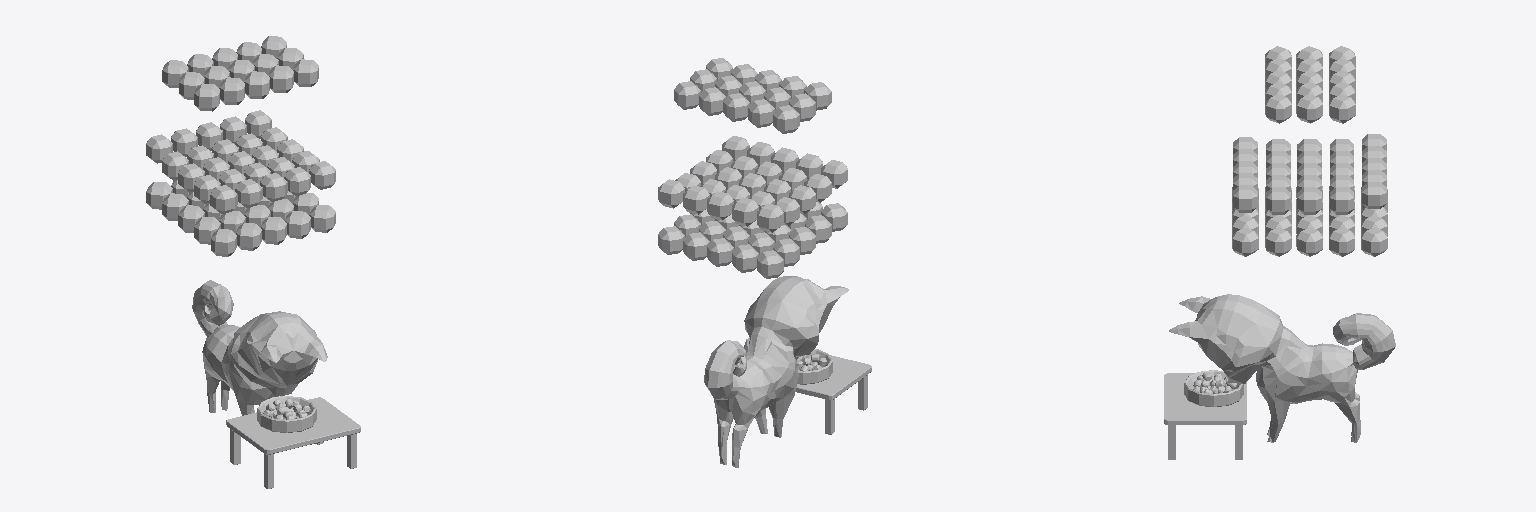
Rendered from fullBowl_frame73.obj.
The picture shows the model from 3 angles: view 1: azimuth 30°, elevation 25°; view 2: azimuth 150°, elevation 25°; view 3: azimuth 270°, elevation 25°; orthographic projection.
Visible parts, largest first — view 1: newRigging1:BodzL1, Tisch:Tisch:pCube1, FressnapfFull:bulletRigidSetSolved1, FressnapfFull:pCube57, FressnapfFull:pCube45, FressnapfFull:pCube46, FressnapfFull:pCube36, FressnapfFull:pCube43, FressnapfFull:pCube50, FressnapfFull:pCube42, FressnapfFull:pCube48, FressnapfFull:pCube49 (+10 smaller); view 2: newRigging1:BodzL1, Tisch:Tisch:pCube1, FressnapfFull:pCube51, FressnapfFull:pCube39, FressnapfFull:pCube64, FressnapfFull:pCube53, FressnapfFull:bulletRigidSetSolved1, FressnapfFull:pCube55, FressnapfFull:pCube54, FressnapfFull:pCube37, FressnapfFull:pCube38, FressnapfFull:pCube41 (+8 smaller); view 3: newRigging1:BodzL1, Tisch:Tisch:pCube1, FressnapfFull:bulletRigidSetSolved1, FressnapfFull:pCube31, FressnapfFull:pCube55, FressnapfFull:pCube4, FressnapfFull:pCube41, FressnapfFull:pCube10, FressnapfFull:pCube36, FressnapfFull:pCube50, FressnapfFull:pCube30, FressnapfFull:pCube25 (+4 smaller).
Part boxes in pixels (bbox=[...]): newRigging1:BodzL1: bbox=[192, 280, 327, 415]; Tisch:Tisch:pCube1: bbox=[226, 397, 360, 488]; FressnapfFull:bulletRigidSetSolved1: bbox=[257, 396, 316, 432]; FressnapfFull:pCube57: bbox=[210, 185, 237, 213]; FressnapfFull:pCube45: bbox=[194, 83, 219, 111]; FressnapfFull:pCube46: bbox=[211, 229, 236, 256]; FressnapfFull:pCube36: bbox=[293, 59, 318, 86]; FressnapfFull:pCube43: bbox=[244, 71, 269, 98]; FressnapfFull:pCube50: bbox=[309, 205, 335, 232]; FressnapfFull:pCube42: bbox=[219, 77, 244, 104]; FressnapfFull:pCube48: bbox=[261, 217, 286, 244]; FressnapfFull:pCube49: bbox=[236, 223, 261, 250]; newRigging1:BodzL1: bbox=[704, 276, 848, 467]; Tisch:Tisch:pCube1: bbox=[796, 355, 871, 434]; FressnapfFull:pCube51: bbox=[757, 250, 783, 278]; FressnapfFull:pCube39: bbox=[773, 105, 799, 133]; FressnapfFull:pCube64: bbox=[757, 203, 783, 232]; FressnapfFull:pCube53: bbox=[707, 238, 733, 266]; FressnapfFull:bulletRigidSetSolved1: bbox=[797, 349, 832, 384]; FressnapfFull:pCube55: bbox=[658, 226, 684, 254]; FressnapfFull:pCube54: bbox=[732, 244, 758, 272]; FressnapfFull:pCube37: bbox=[748, 99, 774, 127]; FressnapfFull:pCube38: bbox=[723, 93, 749, 121]; FressnapfFull:pCube41: bbox=[674, 81, 700, 109]; newRigging1:BodzL1: bbox=[1169, 294, 1395, 442]; Tisch:Tisch:pCube1: bbox=[1164, 373, 1246, 459]; FressnapfFull:bulletRigidSetSolved1: bbox=[1184, 370, 1243, 406]; FressnapfFull:pCube31: bbox=[1296, 94, 1322, 123]; FressnapfFull:pCube55: bbox=[1361, 228, 1387, 256]; FressnapfFull:pCube4: bbox=[1296, 227, 1322, 256]; FressnapfFull:pCube41: bbox=[1329, 94, 1355, 123]; FressnapfFull:pCube10: bbox=[1265, 228, 1291, 256]; FressnapfFull:pCube36: bbox=[1265, 94, 1291, 123]; FressnapfFull:pCube50: bbox=[1232, 228, 1258, 256]; FressnapfFull:pCube30: bbox=[1297, 187, 1321, 214]; FressnapfFull:pCube25: bbox=[1266, 187, 1290, 214].
Bounding box in the file's own units: 5.73 × 16.34 × 9.44.